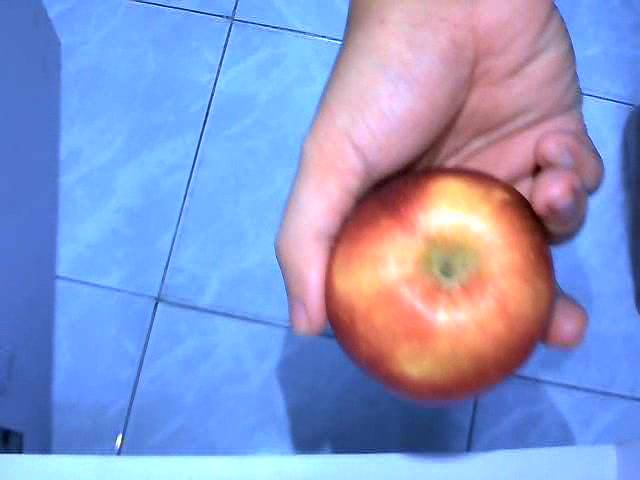apple: (321, 166, 555, 399)
